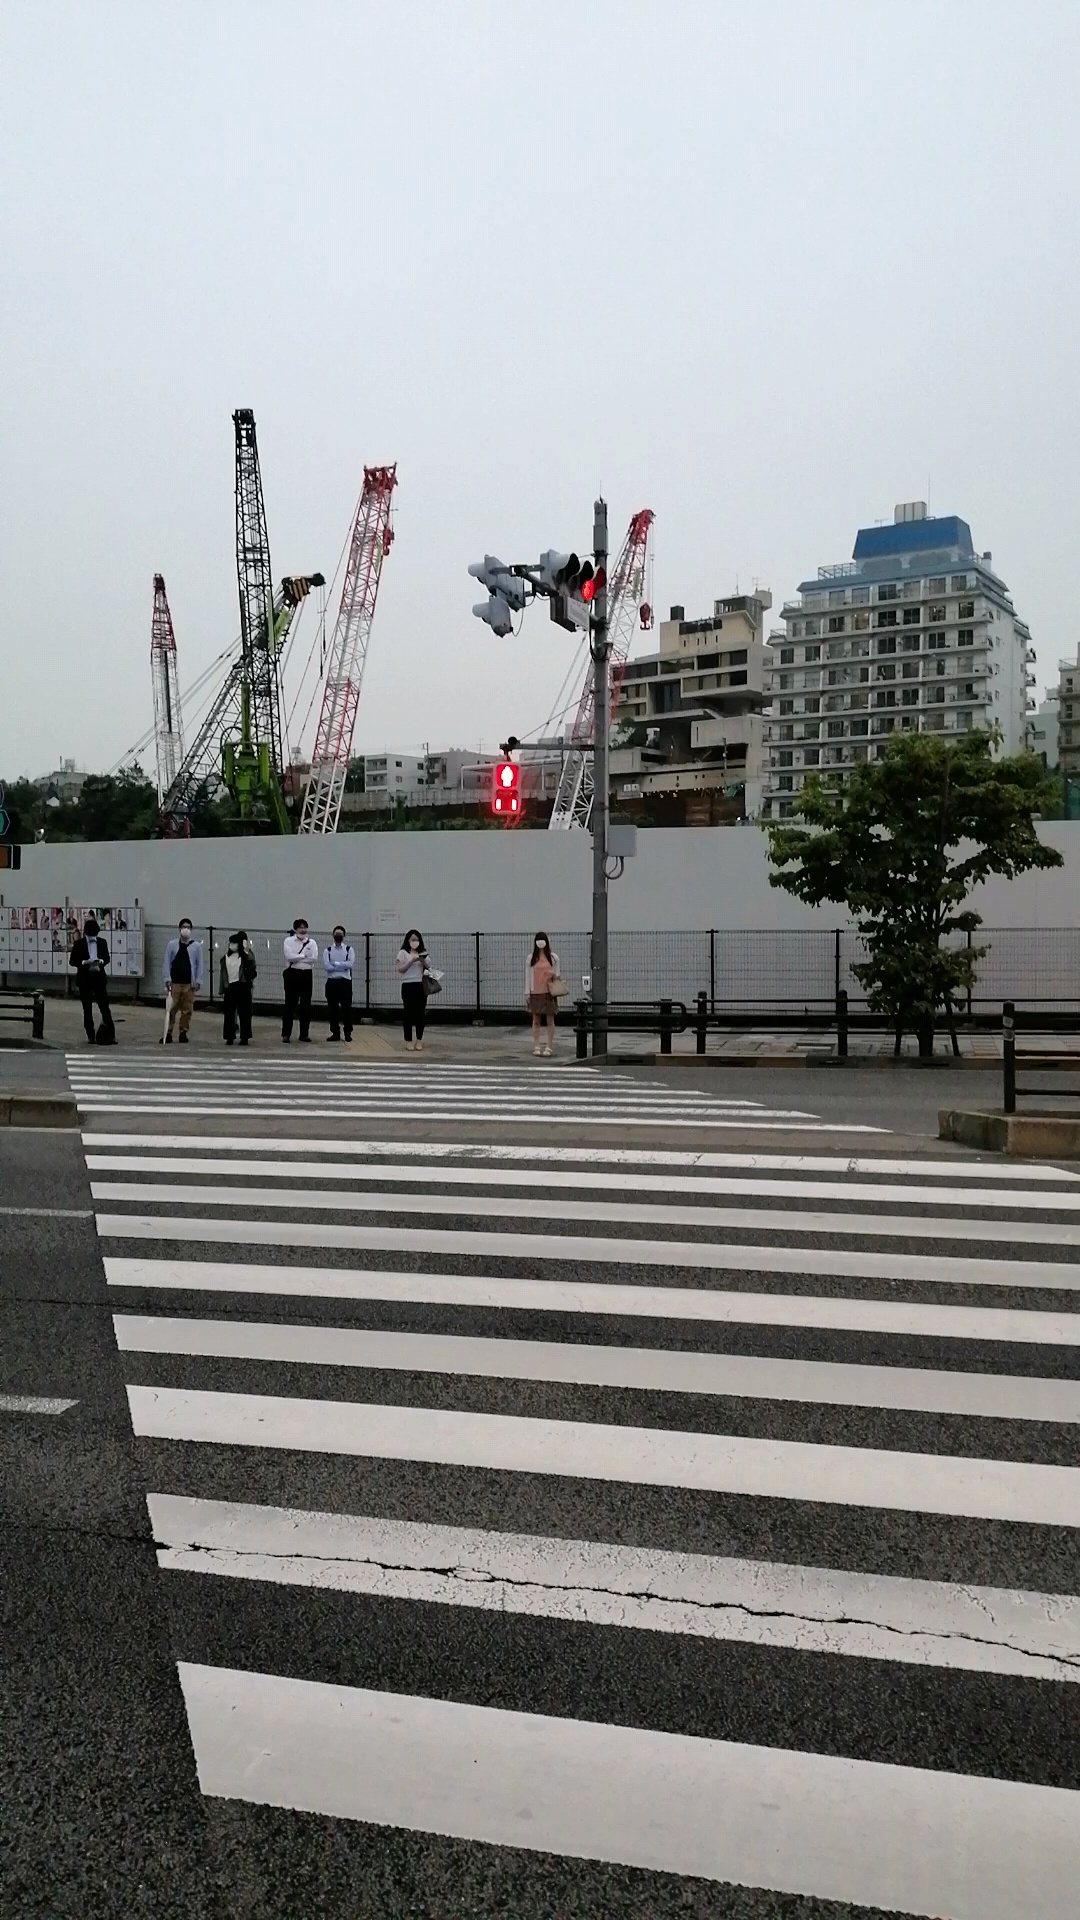red: (492, 760, 520, 814)
